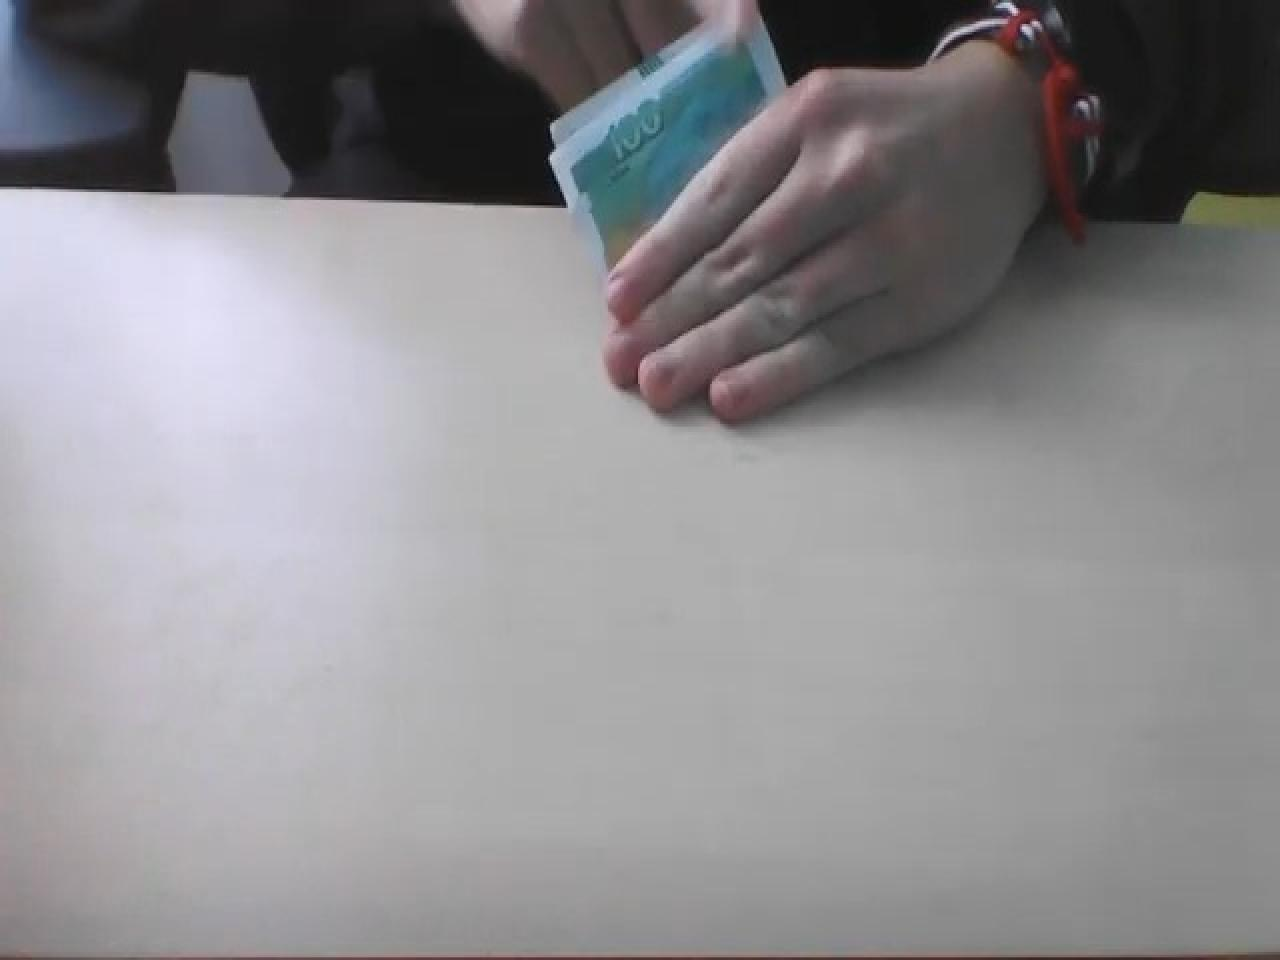100leva: (550, 0, 786, 266)
